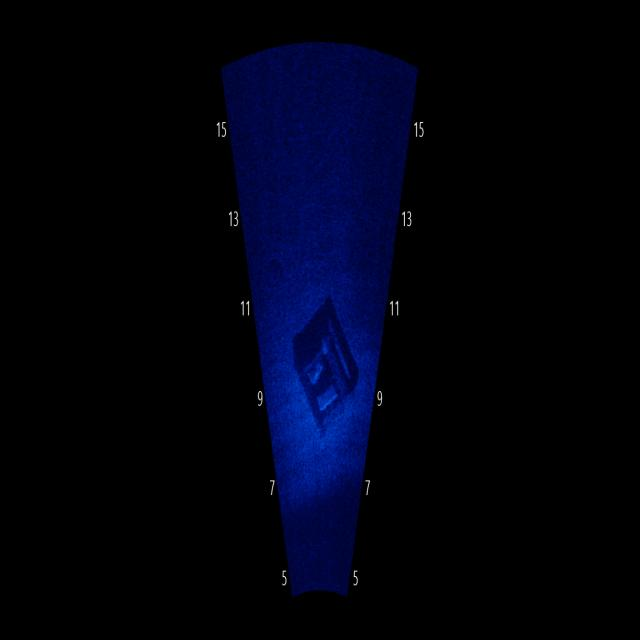square: (287, 281, 365, 438)
